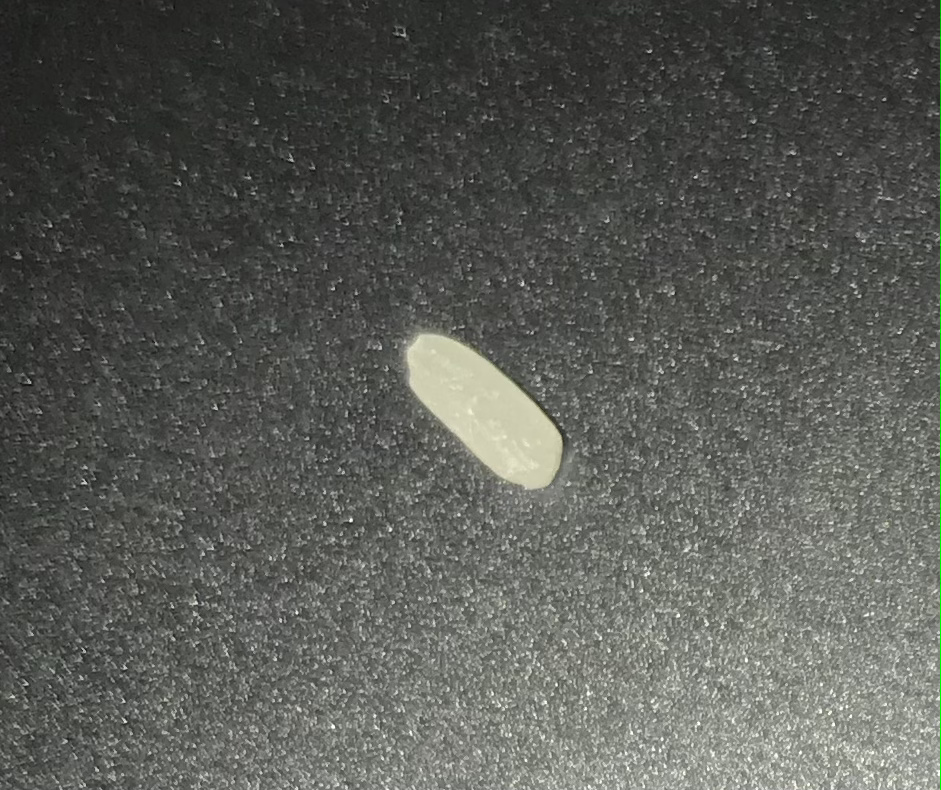Gao Tam Thom: (392, 314, 570, 499)
